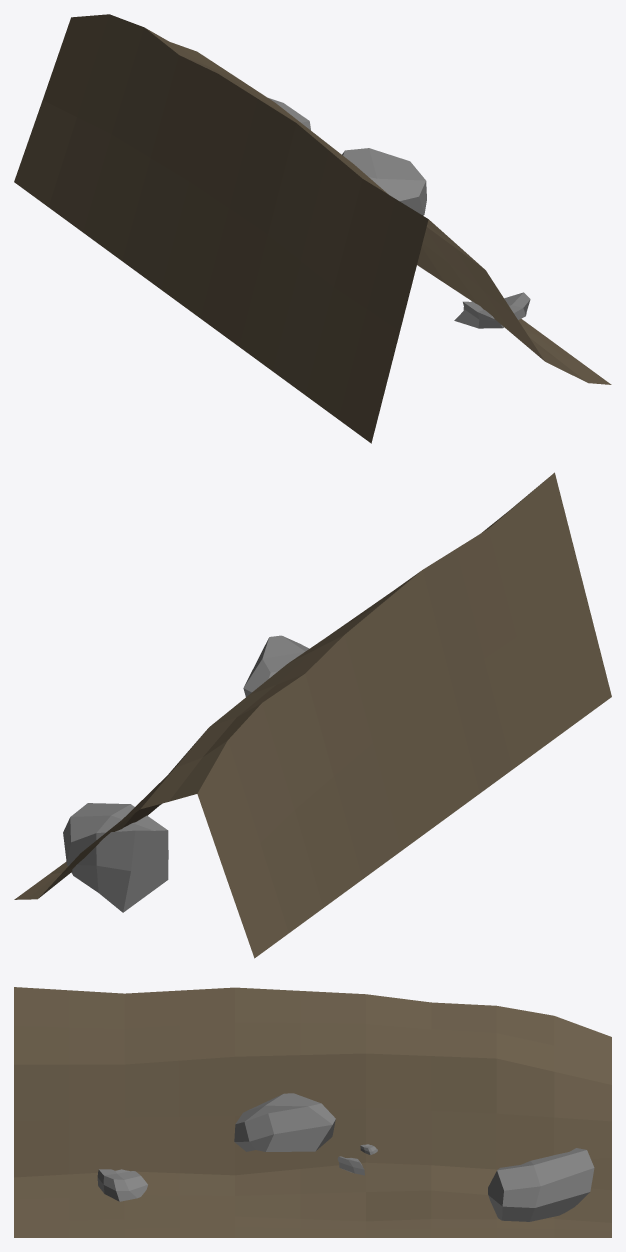
Rendered from HillEdge.fbx.
The picture shows the model from 3 angles, top to bottom: view 1: azimuth 30°, elevation 25°; view 2: azimuth 150°, elevation 25°; view 3: azimuth 270°, elevation 25°; orthographic projection. The views are drawn at different scales.
Parts seen in each view (by area): view 1: Plane, Cube; view 2: Plane, Cube; view 3: Plane, Cube.
Boxes of the visible parts, x1,y1,x2,y2 form: Plane: (14,14,611,443); Cube: (268,98,530,328); Plane: (14,472,611,958); Cube: (63,635,309,912); Plane: (14,987,611,1237); Cube: (97,1093,594,1221).
Size of the model in its own units: 501 by 430 by 1291.
